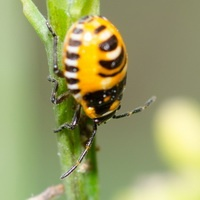insect: (52, 16, 155, 178)
